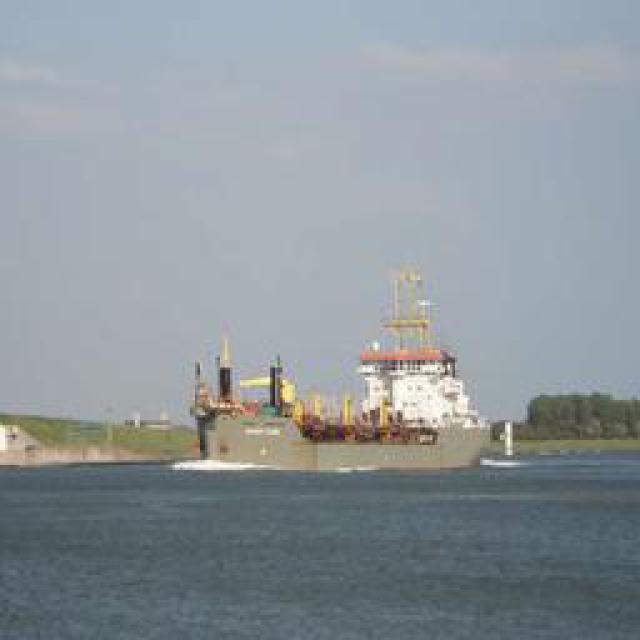Ship: (171, 259, 501, 481)
